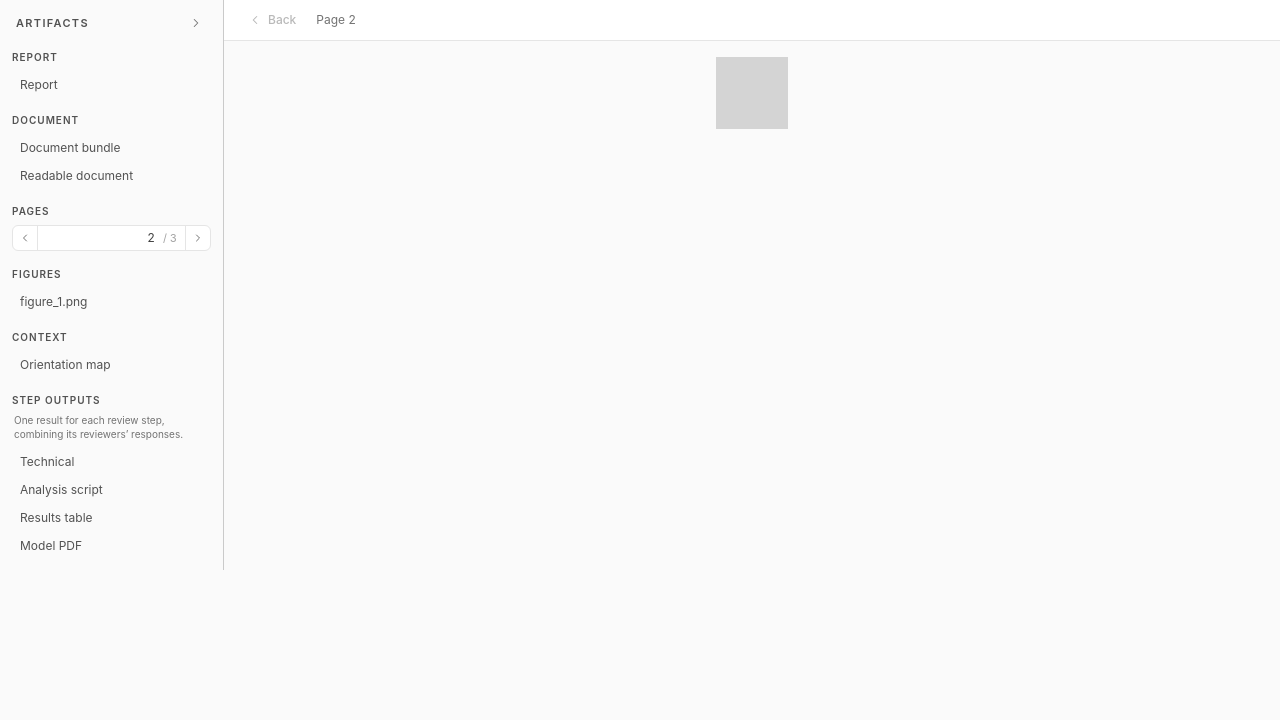
Test: ArtifactExplorer › keeps the next compact page after an evidence request opened an earlier one
Click the button named "Next page": click(198, 238) [185,226,210,250]
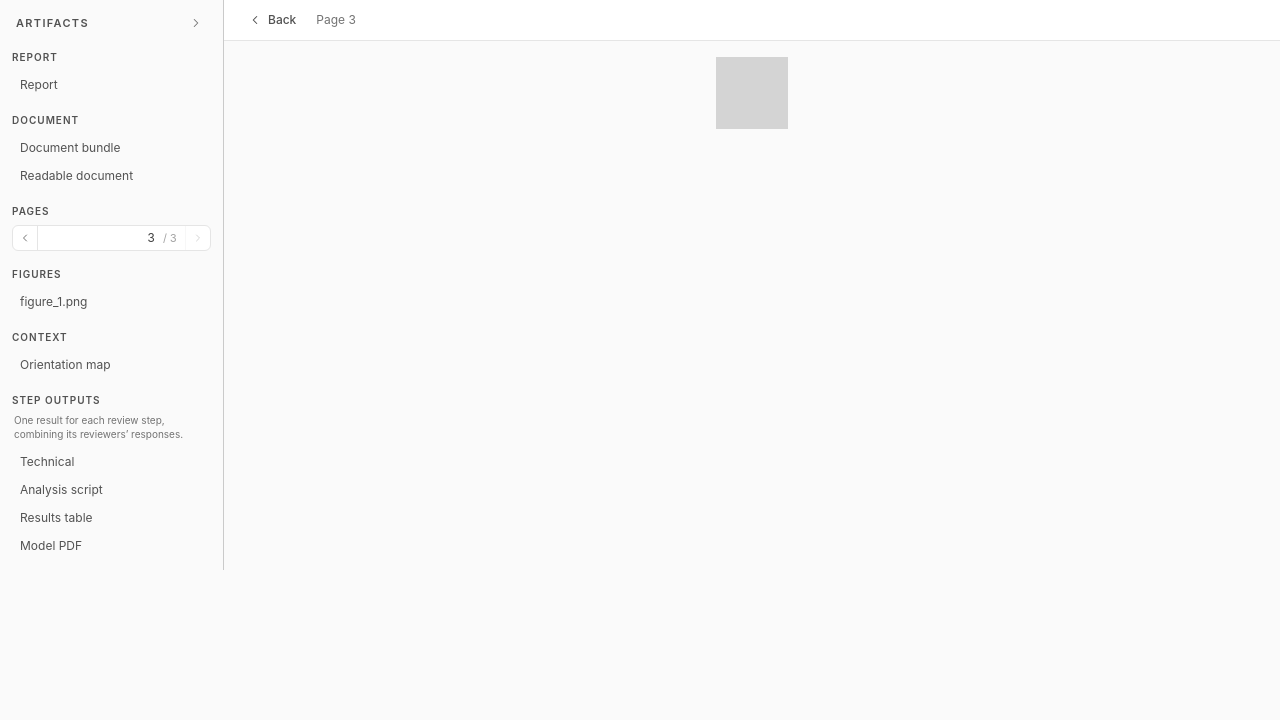
Result: the text "Page 2" is gone
